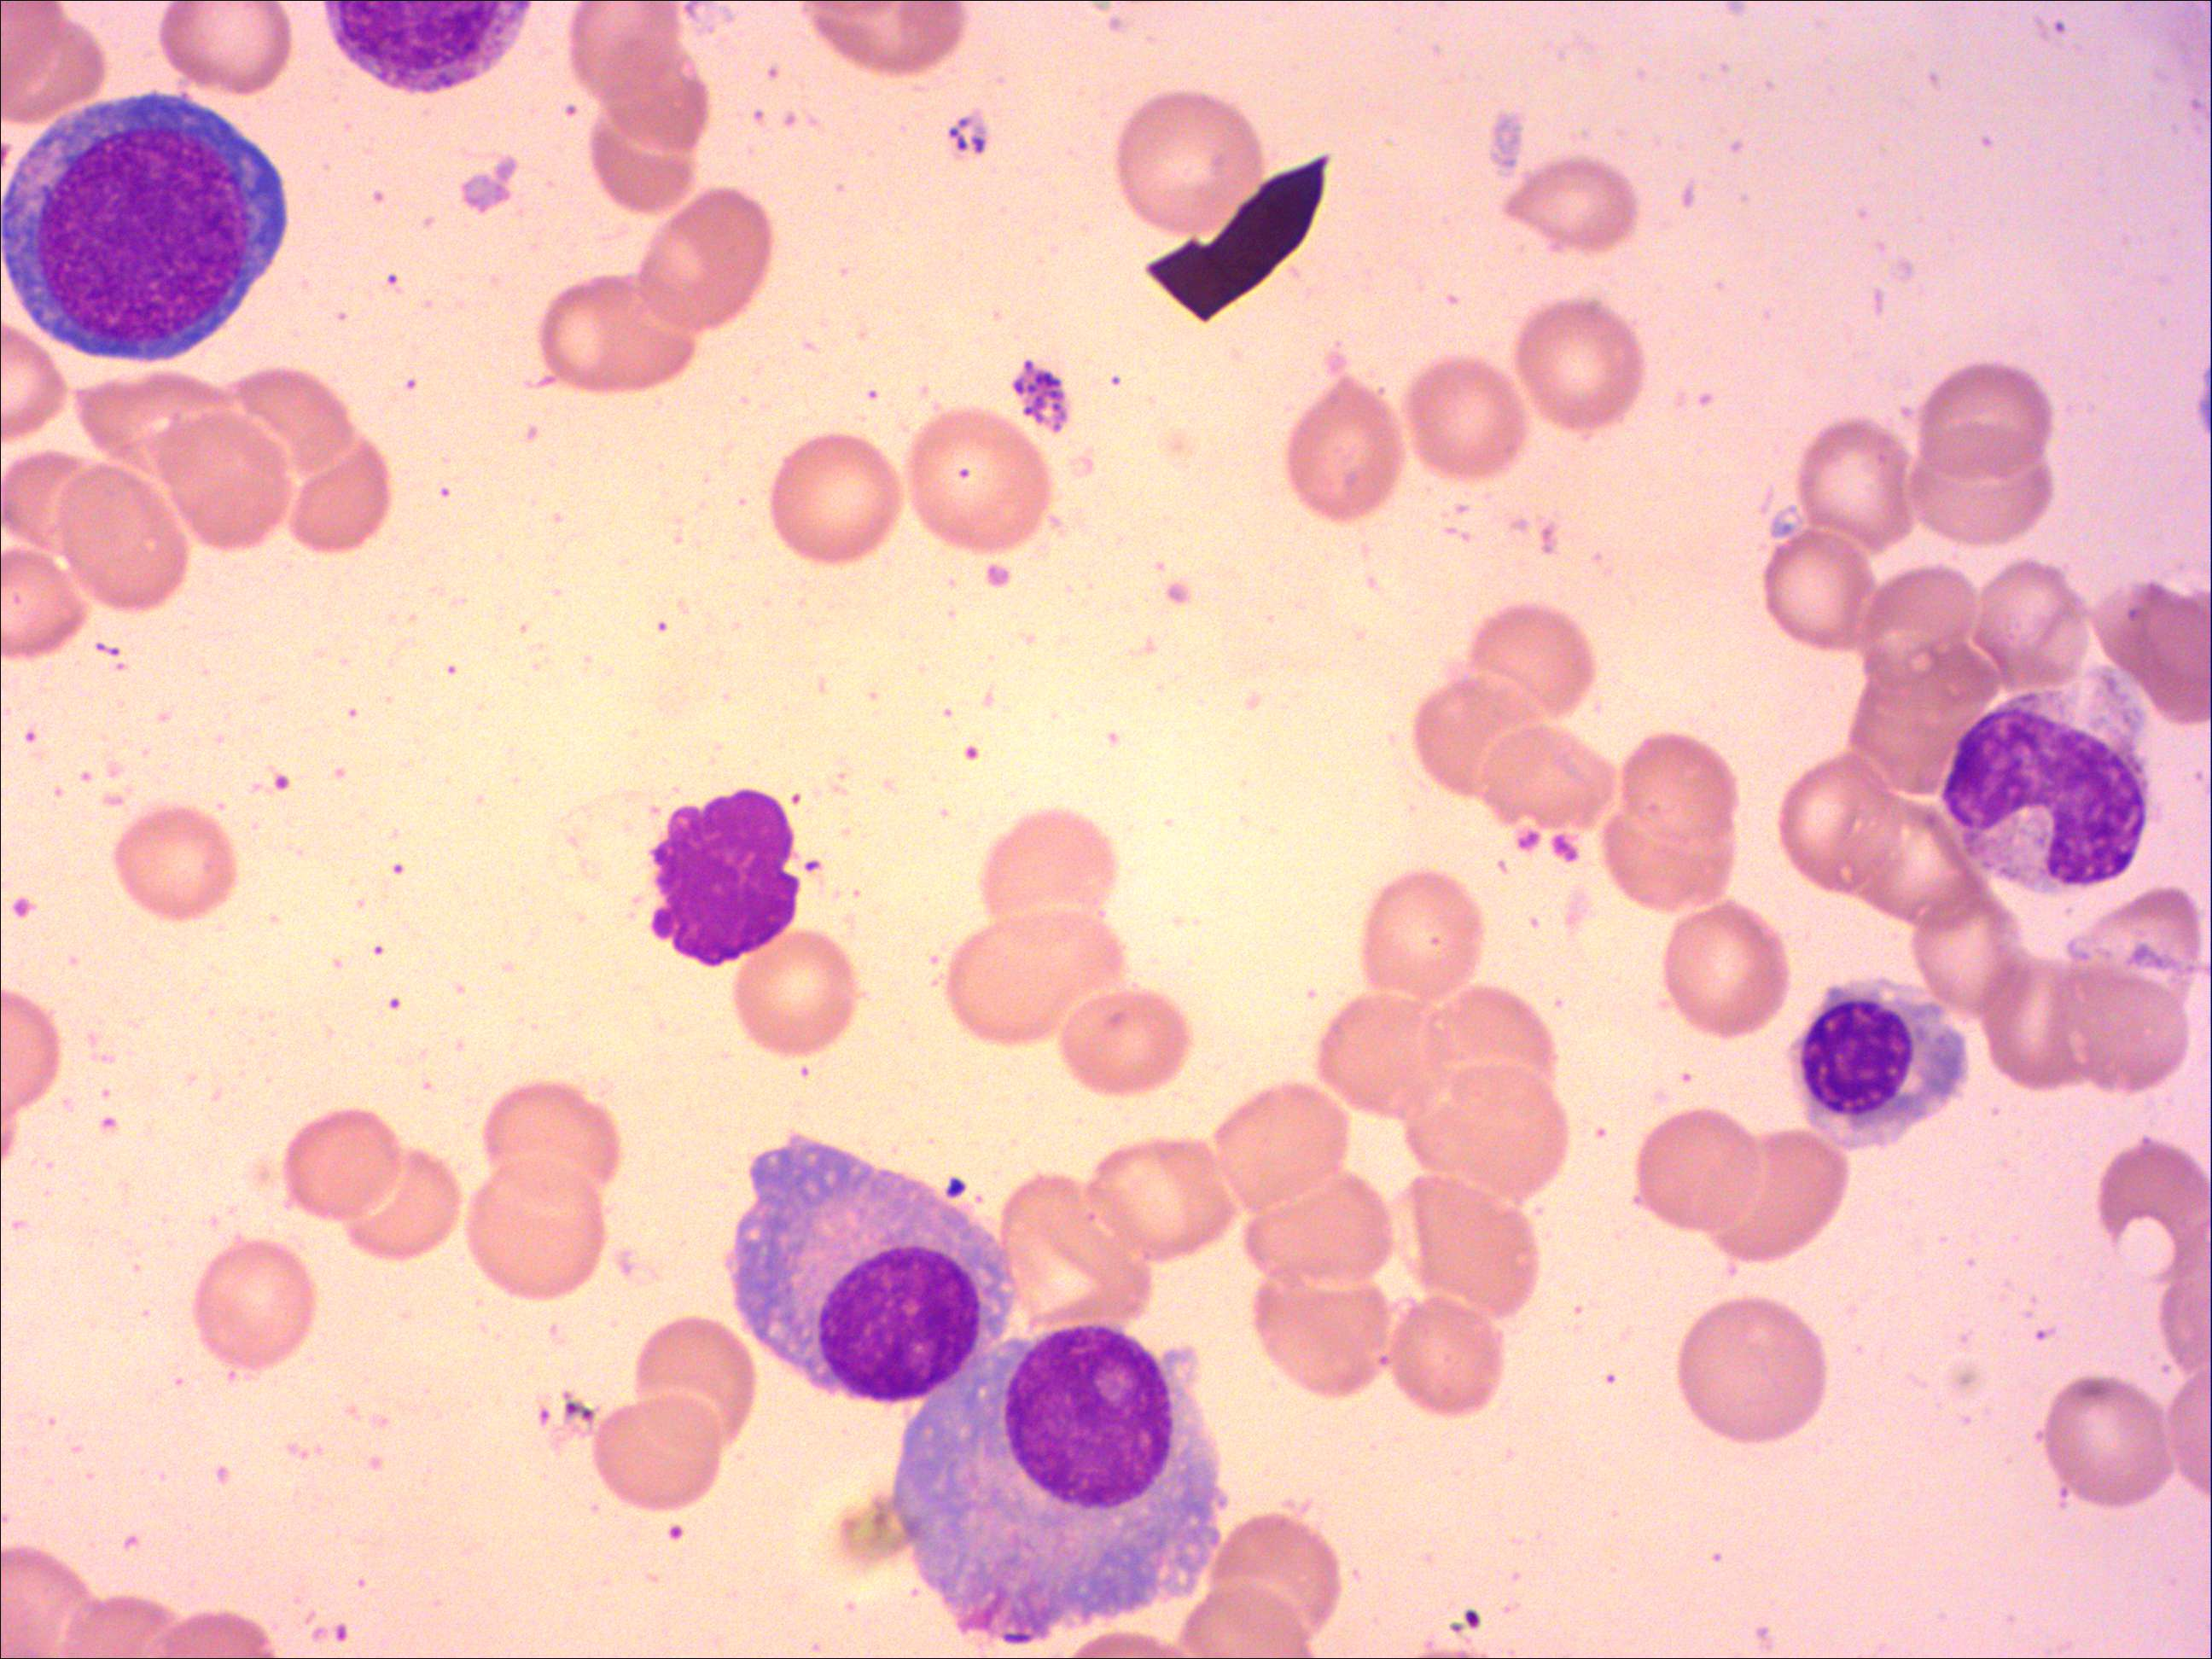21: (0, 87, 294, 366)
23: (1780, 971, 1975, 1155)
4: (1935, 659, 2167, 901)
51: (888, 1323, 1233, 1652), (721, 1127, 1019, 1412)
x: (641, 784, 806, 972)
